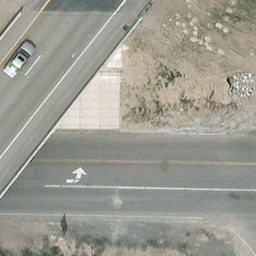car: (4, 38, 36, 82)
